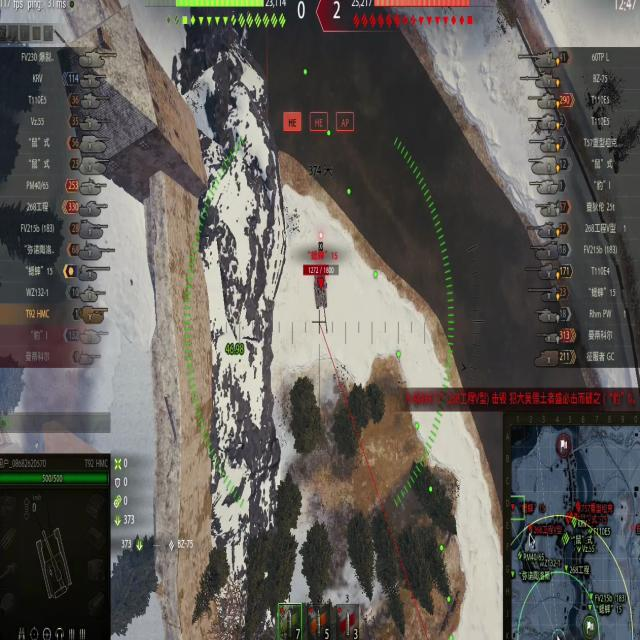tank: (300, 262, 342, 311)
